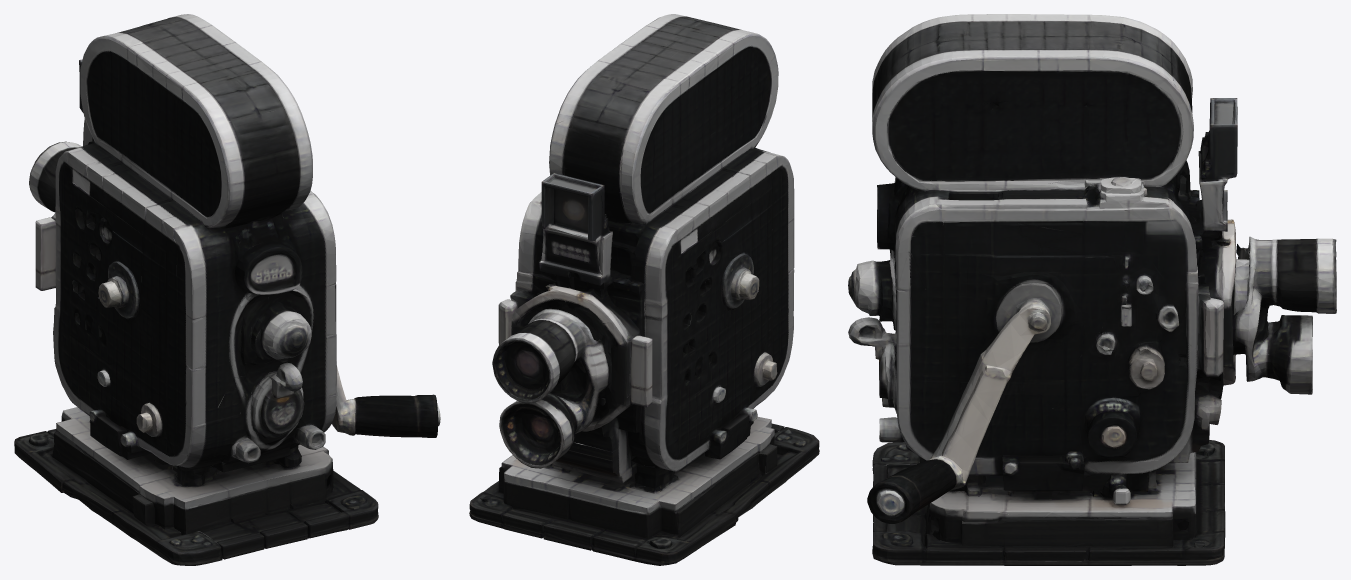
The model's file is 3d-movie-camera.glb.
The picture shows the model from 3 angles, left to right: view 1: azimuth 30°, elevation 25°; view 2: azimuth 150°, elevation 25°; view 3: azimuth 270°, elevation 25°; orthographic projection. The views are drawn at different scales.
Parts seen in each view (by area): view 1: world; view 2: world; view 3: world.
Boxes of the visible parts, x1,y1,x2,y2 form: world: [14, 14, 440, 565]; world: [469, 14, 819, 565]; world: [848, 14, 1336, 565].
Bounding box in the file's own units: 0.6661 × 0.9932 × 0.9284.
1 material, 1 textured.
